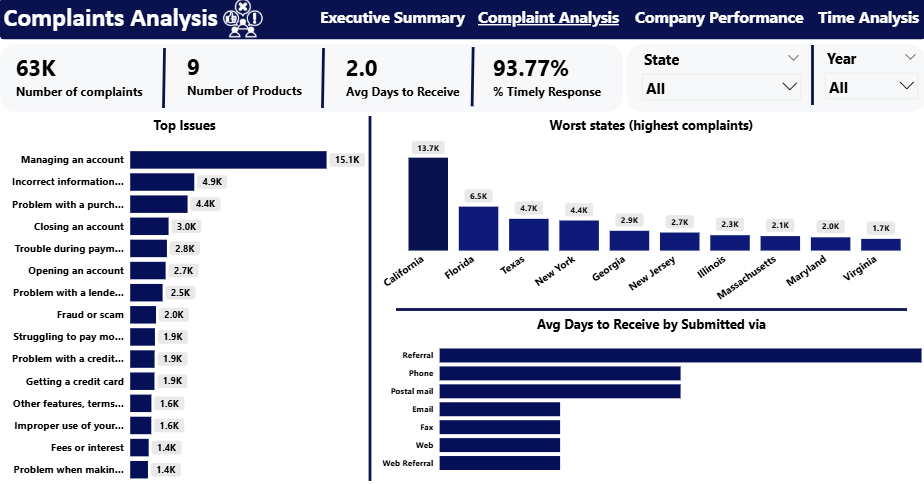

Layout of this report page (visuals, bound fields, positions):
{"tool":"powerbi","page":{"name":"Complaint Analysis","canvas":[1336,722],"ordinal":2},"visuals":[{"type":"shape","box":[0,75.1,899.6,98.2],"z":0},{"type":"shape","box":[0,8.8,1335.9,59.9],"z":1000,"group":"g2"},{"type":"cardVisual","title":"j","fields":{"Data":["Measuress.Number of complaints"]},"box":[5.8,76.5,235.4,88.1],"z":1000},{"type":"shape","box":[197.8,80.9,78,86.6],"z":2000},{"type":"cardVisual","fields":{"Data":["Measuress.Number of Products"]},"box":[241.3,70.9,245.8,96.5],"z":3000},{"type":"cardVisual","fields":{"Data":["Measuress.Avg Days to Receive"]},"box":[470.5,67.9,292.5,104.1],"z":4000},{"type":"cardVisual","fields":{"Data":["Measuress.% Timely Response"]},"box":[683.1,68.6,217.1,104.1],"z":5000},{"type":"barChart","title":"Top Issues","fields":{"Y":["CountNonNull(Complaints Analysis.Complaint ID)"],"Category":["Complaints Analysis.Issue"]},"box":[0,179.1,532.8,541.5],"z":6000},{"type":"shape","box":[522.7,179.1,23.1,527.1],"z":7000},{"type":"textbox","box":[0,0,326.3,60.6],"z":8000,"group":"g1"},{"type":"textbox","box":[0,8.7,326.3,60.6],"z":8000,"group":"g2"},{"type":"shape","box":[427.4,80.9,78,86.6],"z":8000},{"type":"shape","box":[643.9,79.9,76.9,86],"z":9000},{"type":"group","id":"g1","title":"Group 1","box":[0,0,1335.7,60.6],"z":10000},{"type":"shape","box":[905.4,75.1,430.3,98.2],"z":11000},{"type":"slicer","fields":{"Values":["Complaints Analysis.Received Date.Variation.Date Hierarchy.Year"]},"box":[1181.2,76.1,154.5,86.6],"z":12000},{"type":"slicer","fields":{"Values":["Complaints Analysis.State name"]},"box":[916.9,77.5,249.8,83.8],"z":13000},{"type":"shape","box":[1166.8,76.1,13,86.6],"z":14000},{"type":"clusteredColumnChart","title":"Worst states (highest complaints)","fields":{"Category":["Complaints Analysis.State name"],"Y":["CountNonNull(Complaints Analysis.Complaint ID)"]},"box":[545.8,179.1,789.9,287.4],"z":15000},{"type":"shape","box":[571.8,450.5,737.9,15.9],"z":16000},{"type":"image","box":[303.7,8.8,94.9,58.4],"z":17000,"group":"g2"},{"type":"clusteredBarChart","fields":{"Category":["Complaints Analysis.Submitted via"],"Y":["Measuress.Avg Days to Receive"]},"box":[545.8,466.4,789.9,239.7],"z":17000},{"type":"group","id":"g2","title":"Group 1","box":[0,8.7,1335.9,60.6],"z":18000},{"type":"actionButton","title":"Time Analysis","box":[1181.2,12.1,154.5,36.1],"z":18000,"group":"g1"},{"type":"actionButton","title":"Time Analysis","box":[1181.2,20.8,154.5,36.1],"z":18000,"group":"g2"},{"type":"actionButton","title":"Company Performance","box":[916.9,11.6,249.8,37.5],"z":19000,"group":"g1"},{"type":"actionButton","box":[462.1,15.9,209.4,40.4],"z":19000},{"type":"actionButton","title":"Company Performance","box":[916.9,20.3,249.8,37.5],"z":19000,"group":"g2"},{"type":"actionButton","box":[916.9,20.2,249.8,40.4],"z":20000},{"type":"actionButton","title":"Complaint Analysis","box":[690.2,20.3,209.4,37.5],"z":20000,"group":"g2"},{"type":"actionButton","title":"Executive Summary","box":[462.1,11.6,220.9,37.5],"z":21000,"group":"g1"},{"type":"actionButton","box":[1181.2,18.8,148.7,40.4],"z":21000},{"type":"actionButton","title":"Executive Summary","box":[462.1,20.3,220.9,37.5],"z":21000,"group":"g2"}]}

Visuals, with their boxes on the page's 1336x722 design canvas (x1, y1, x2, y2). These are canvas units, not pixel positions in the 924x484 screenshot, which may show the page scaled, cropped or inside an application window:
shape: x1=0 y1=75 x2=900 y2=173
shape: x1=0 y1=9 x2=1336 y2=69
"j" cardVisual: x1=6 y1=76 x2=241 y2=165
shape: x1=198 y1=81 x2=276 y2=168
cardVisual - Measuress.Number of Products: x1=241 y1=71 x2=487 y2=167
cardVisual - Measuress.Avg Days to Receive: x1=470 y1=68 x2=763 y2=172
cardVisual - Measuress.% Timely Response: x1=683 y1=69 x2=900 y2=173
"Top Issues" barChart: x1=0 y1=179 x2=533 y2=721
shape: x1=523 y1=179 x2=546 y2=706
textbox: x1=0 y1=0 x2=326 y2=61
textbox: x1=0 y1=9 x2=326 y2=69
shape: x1=427 y1=81 x2=505 y2=168
shape: x1=644 y1=80 x2=721 y2=166
"Group 1" group: x1=0 y1=0 x2=1336 y2=61
shape: x1=905 y1=75 x2=1336 y2=173
slicer - Complaints Analysis.Received Date.Variation.Date Hierarchy.Year: x1=1181 y1=76 x2=1336 y2=163
slicer - Complaints Analysis.State name: x1=917 y1=78 x2=1167 y2=161
shape: x1=1167 y1=76 x2=1180 y2=163
"Worst states (highest complaints)" clusteredColumnChart: x1=546 y1=179 x2=1336 y2=466
shape: x1=572 y1=450 x2=1310 y2=466
image: x1=304 y1=9 x2=399 y2=67
clusteredBarChart - Complaints Analysis.Submitted via x Measuress.Avg Days to Receive: x1=546 y1=466 x2=1336 y2=706
"Group 1" group: x1=0 y1=9 x2=1336 y2=69
"Time Analysis" actionButton: x1=1181 y1=12 x2=1336 y2=48
"Time Analysis" actionButton: x1=1181 y1=21 x2=1336 y2=57
"Company Performance" actionButton: x1=917 y1=12 x2=1167 y2=49
actionButton: x1=462 y1=16 x2=672 y2=56
"Company Performance" actionButton: x1=917 y1=20 x2=1167 y2=58
actionButton: x1=917 y1=20 x2=1167 y2=61
"Complaint Analysis" actionButton: x1=690 y1=20 x2=900 y2=58
"Executive Summary" actionButton: x1=462 y1=12 x2=683 y2=49
actionButton: x1=1181 y1=19 x2=1330 y2=59
"Executive Summary" actionButton: x1=462 y1=20 x2=683 y2=58
